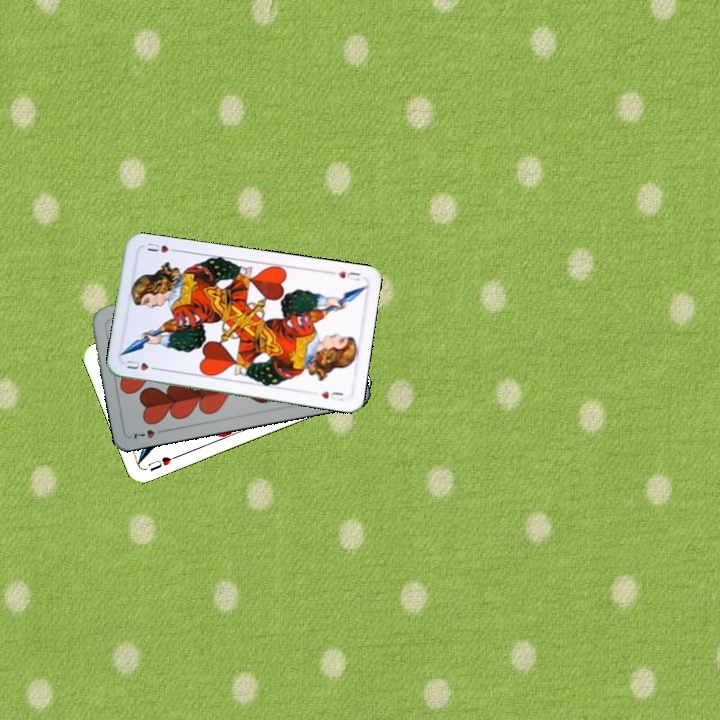H7: (129, 425, 168, 442)
HU: (144, 451, 180, 474), (123, 356, 162, 373), (333, 267, 363, 283)
